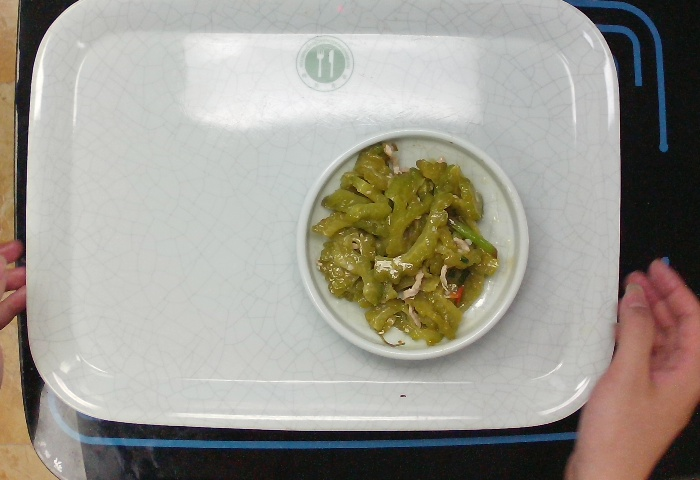JYsf-Xiao_Yuan_Pan: (287, 124, 531, 365)
